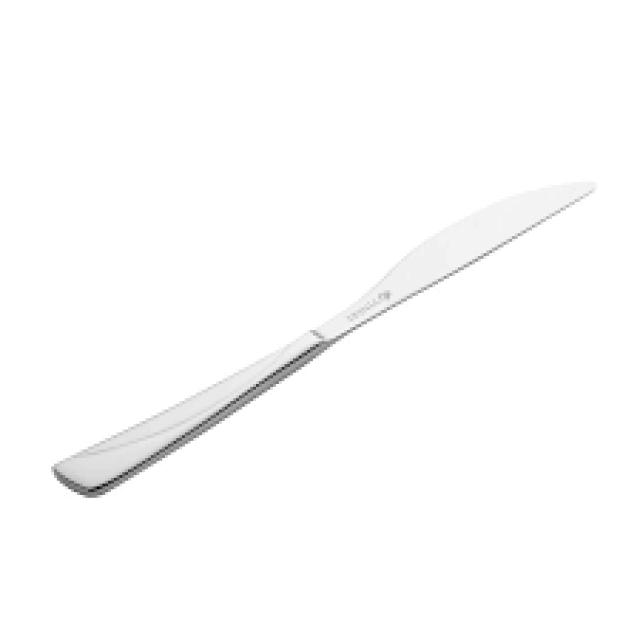knife: (50, 175, 607, 509)
